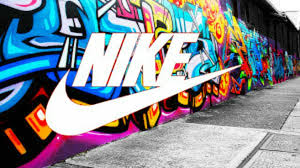nike: (41, 52, 266, 132)
